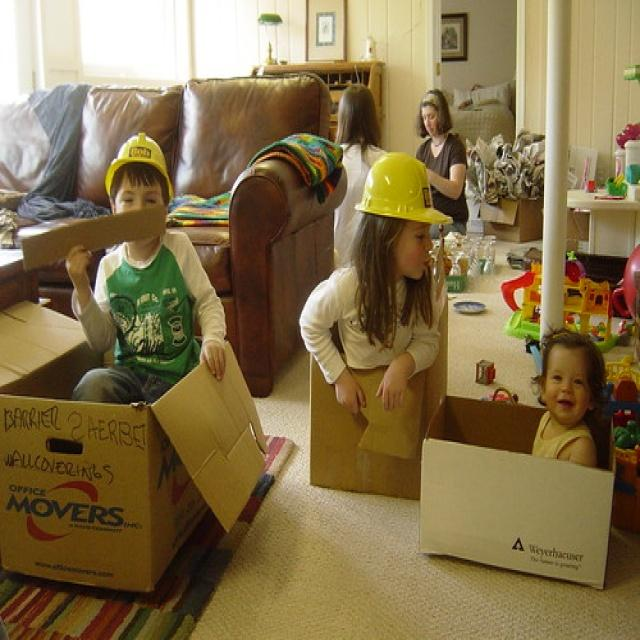helmet: (355, 204, 454, 300), (103, 172, 176, 269)
